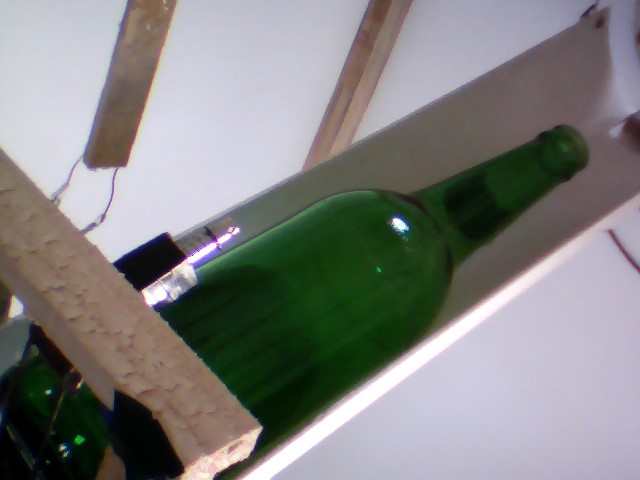vidrio: (180, 121, 598, 443)
